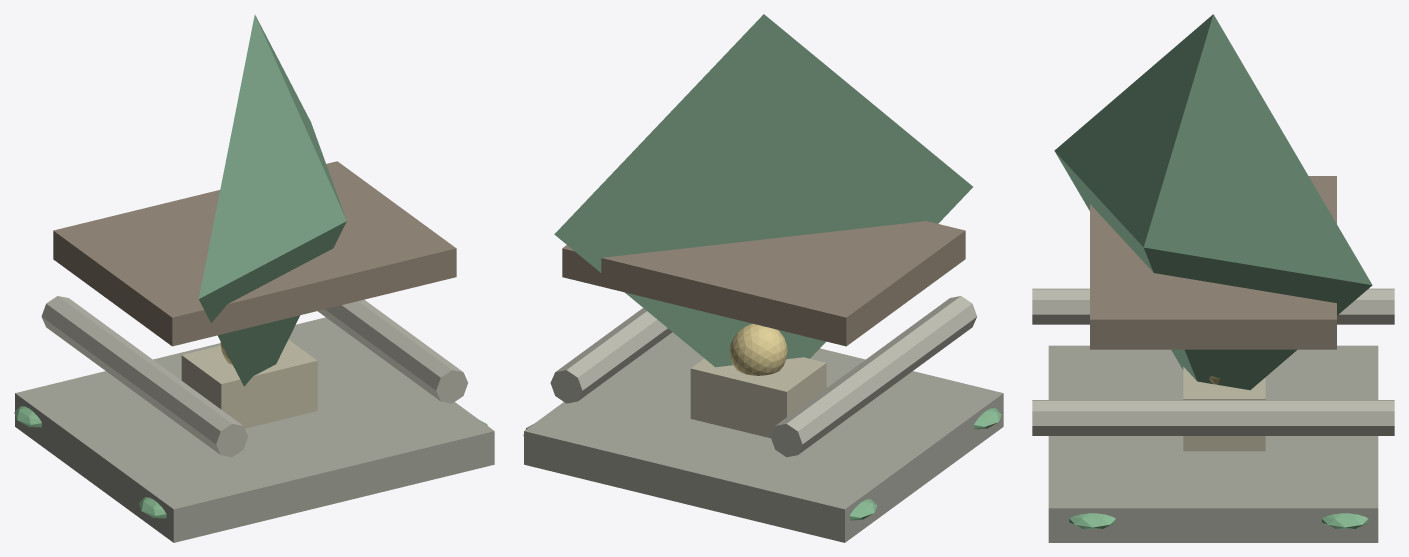
File: mossy_shrine.glb
3 views of the same model, side by side, from view 1: azimuth 30°, elevation 25°; view 2: azimuth 150°, elevation 25°; view 3: azimuth 270°, elevation 25° (orthographic). The views are drawn at different scales.
Parts seen in each view (by area): view 1: platform, roofbase, roof, altar, column3, column2, column0, column1; view 2: roof, platform, roofbase, altar, column0, column1, column2, orb; view 3: roof, platform, roofbase, column1, column3, altar, column2, column0, moss1, moss3.
Boxes of the visible parts, x1,y1,x2,y2 form: platform: [15, 317, 494, 542]; roofbase: [53, 161, 456, 346]; roof: [198, 14, 346, 386]; altar: [181, 339, 317, 428]; column3: [346, 304, 467, 403]; column2: [131, 359, 248, 457]; column0: [41, 296, 153, 392]; column1: [317, 299, 377, 338]; roof: [554, 14, 972, 367]; platform: [524, 332, 1003, 542]; roofbase: [562, 221, 965, 346]; altar: [690, 357, 826, 438]; column0: [770, 358, 892, 457]; column1: [550, 308, 667, 403]; column2: [865, 296, 977, 388]; orb: [729, 323, 787, 375]; roof: [1054, 14, 1372, 390]; platform: [1048, 345, 1378, 542]; roofbase: [1090, 176, 1336, 349]; column1: [1208, 400, 1394, 435]; column3: [1032, 400, 1218, 435]; altar: [1183, 367, 1265, 451]; column2: [1032, 288, 1089, 324]; column0: [1337, 288, 1394, 324]; moss1: [1069, 513, 1115, 528]; moss3: [1322, 513, 1368, 528].
Size of the model in its own units: 7.6 by 9 by 6.6.
